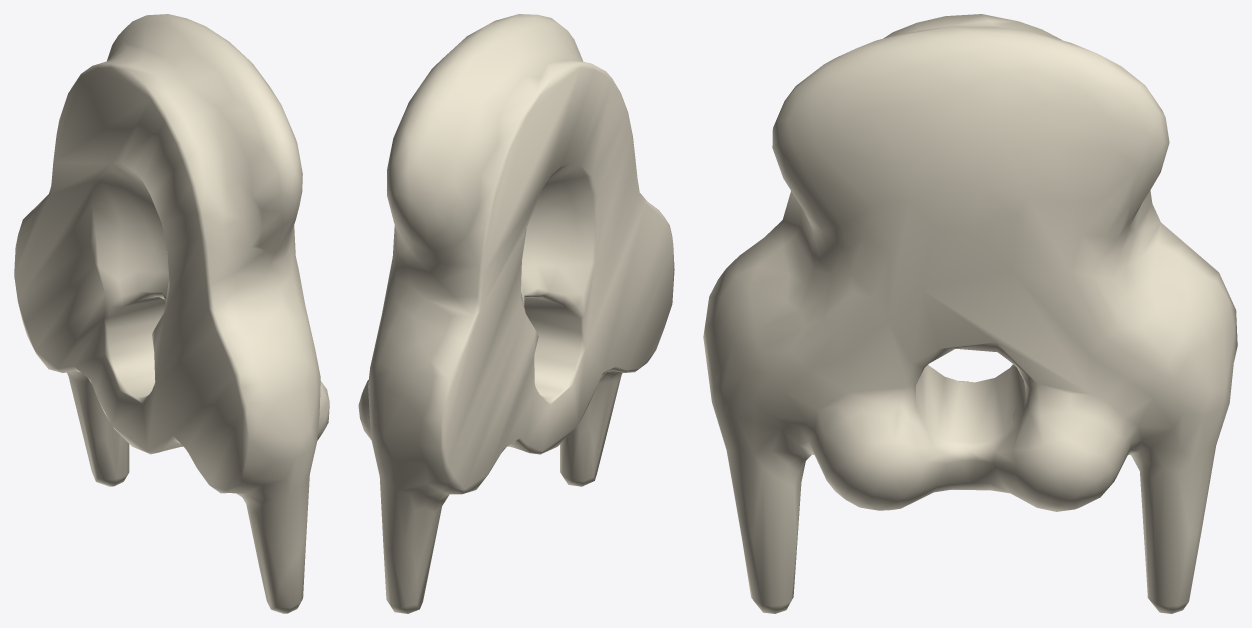
File: occipital.glb
The picture shows the model from 3 angles, left to right: view 1: azimuth 30°, elevation 25°; view 2: azimuth 150°, elevation 25°; view 3: azimuth 270°, elevation 25°; orthographic projection. The views are drawn at different scales.
Parts seen in each view (by area): view 1: geometry_0; view 2: geometry_0; view 3: geometry_0.
Part boxes in pixels (bbox=[...]): geometry_0: bbox=[14, 14, 329, 613]; geometry_0: bbox=[358, 14, 674, 613]; geometry_0: bbox=[703, 14, 1237, 613].
Size of the model in its own units: 0.1029 by 0.3265 by 0.2695.
